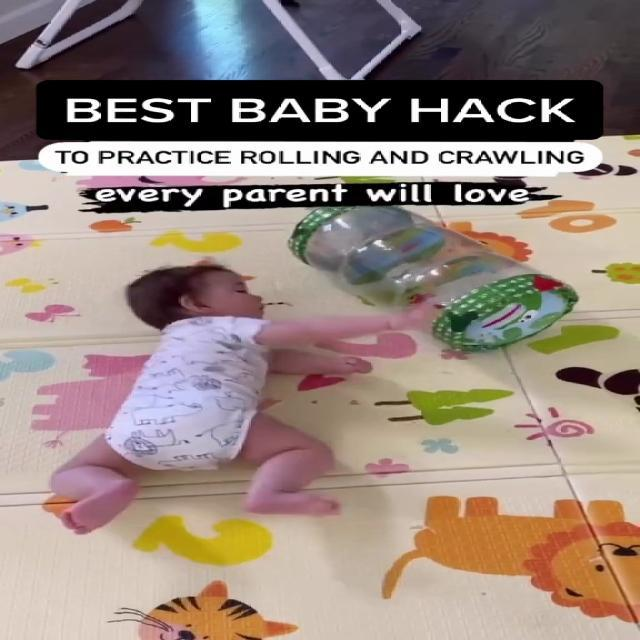baby: (39, 251, 434, 548)
